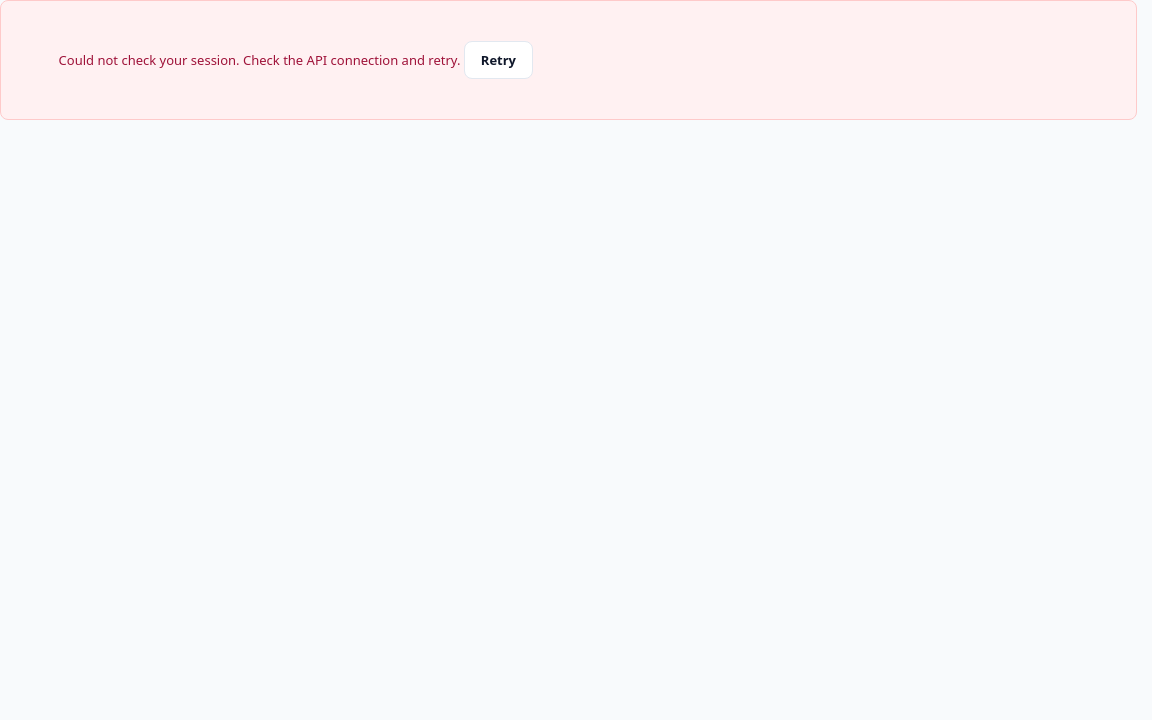
Test: session connection failures require a retry, not a trusted local session
The width and height of the screenshot is (1152, 720).
Click the button "Retry". click: (498, 60)
box: [464, 41, 533, 79]
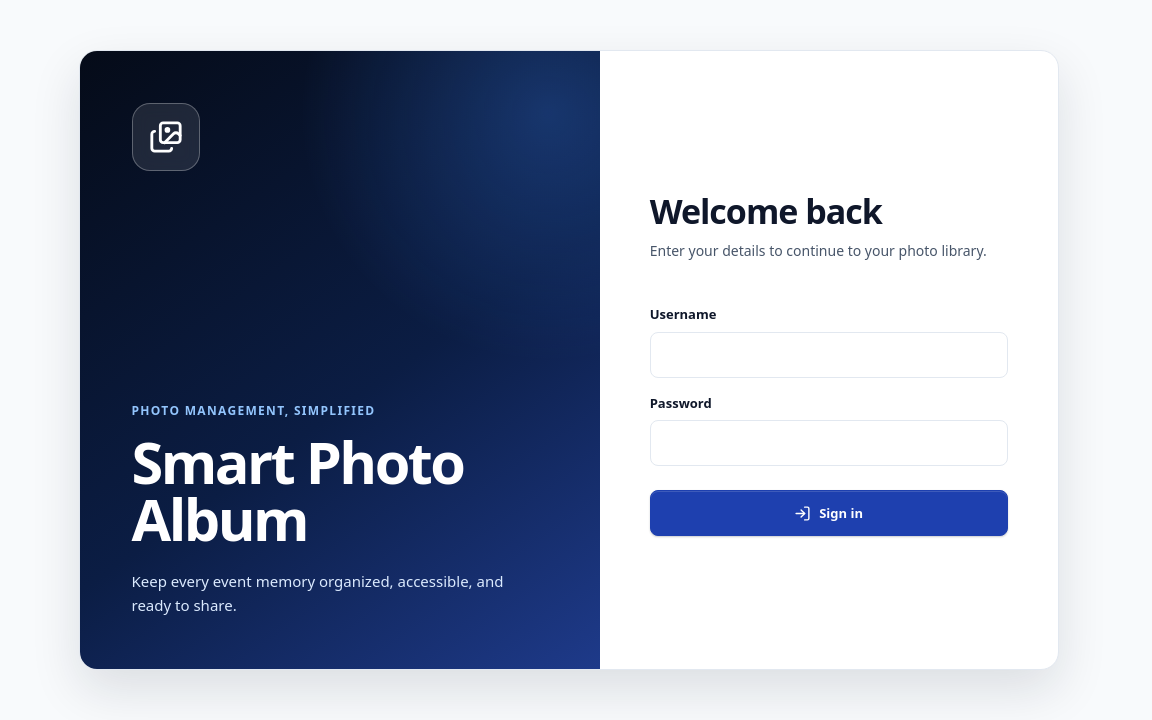
Expected: the heading "Welcome back" is shown, [650, 188, 882, 234]
